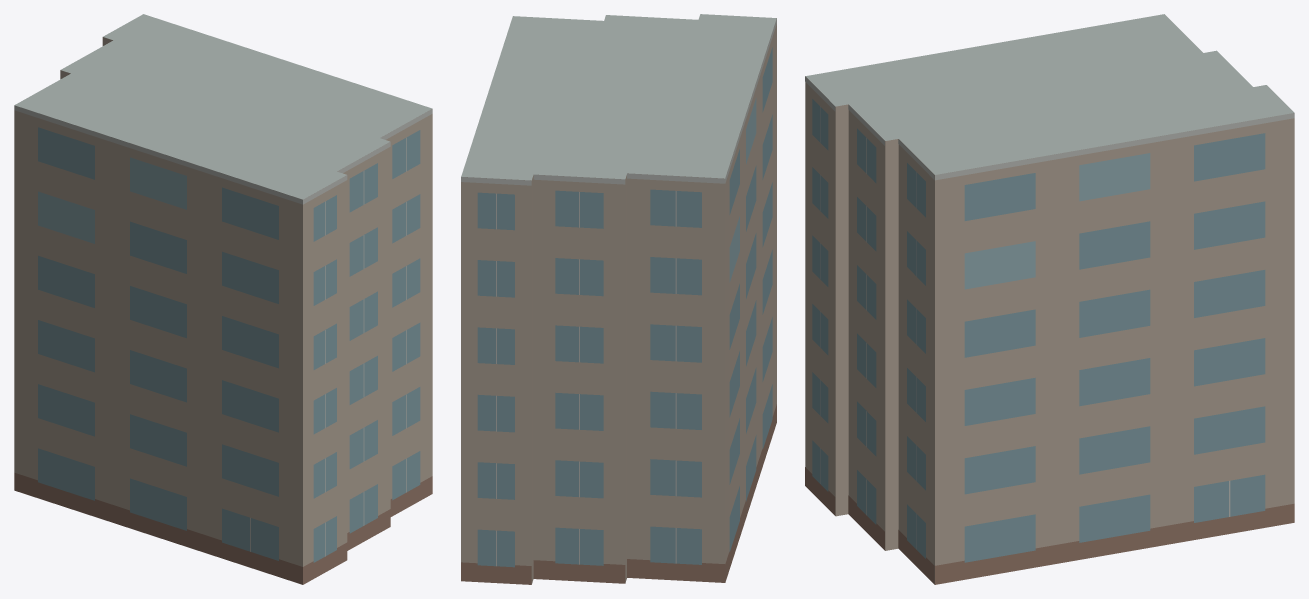
Rendered from survey-upis-32601460.glb.
3 renders of one model, left to right at view 1: azimuth 30°, elevation 25°; view 2: azimuth 150°, elevation 25°; view 3: azimuth 270°, elevation 25°, orthographic. The views are drawn at different scales.
Parts seen in each view (by area): view 1: survey-upis-32601460.tmp; view 2: survey-upis-32601460.tmp; view 3: survey-upis-32601460.tmp.
Boxes of the visible parts, left/top/right/bottom form: survey-upis-32601460.tmp: left=14, top=14, right=432, bottom=584; survey-upis-32601460.tmp: left=461, top=14, right=776, bottom=584; survey-upis-32601460.tmp: left=805, top=14, right=1294, bottom=584.
Size of the model in its own units: 15.86 by 18.8 by 20.36.
